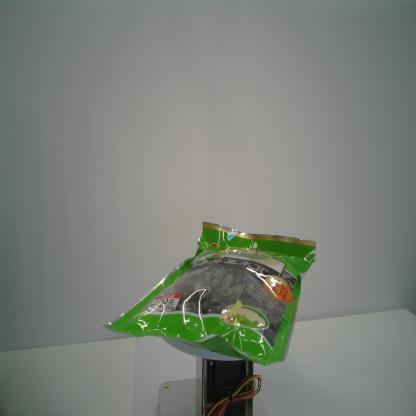Dried Food: (101, 219, 318, 368)
